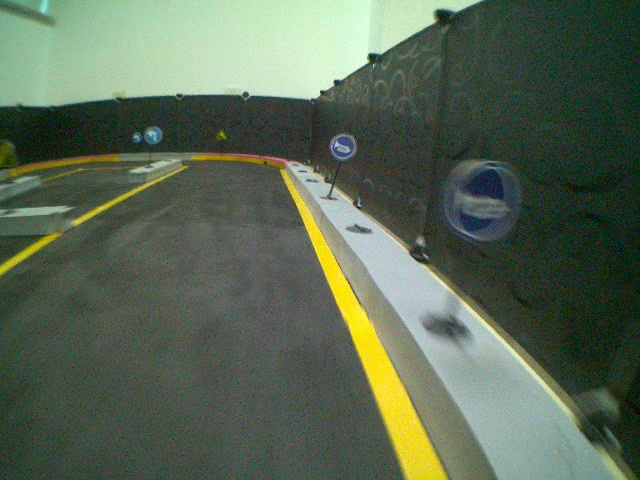fast: (215, 127, 226, 142)
horn: (446, 156, 521, 243), (330, 130, 359, 161)
turn: (142, 125, 163, 145), (132, 131, 142, 146)
